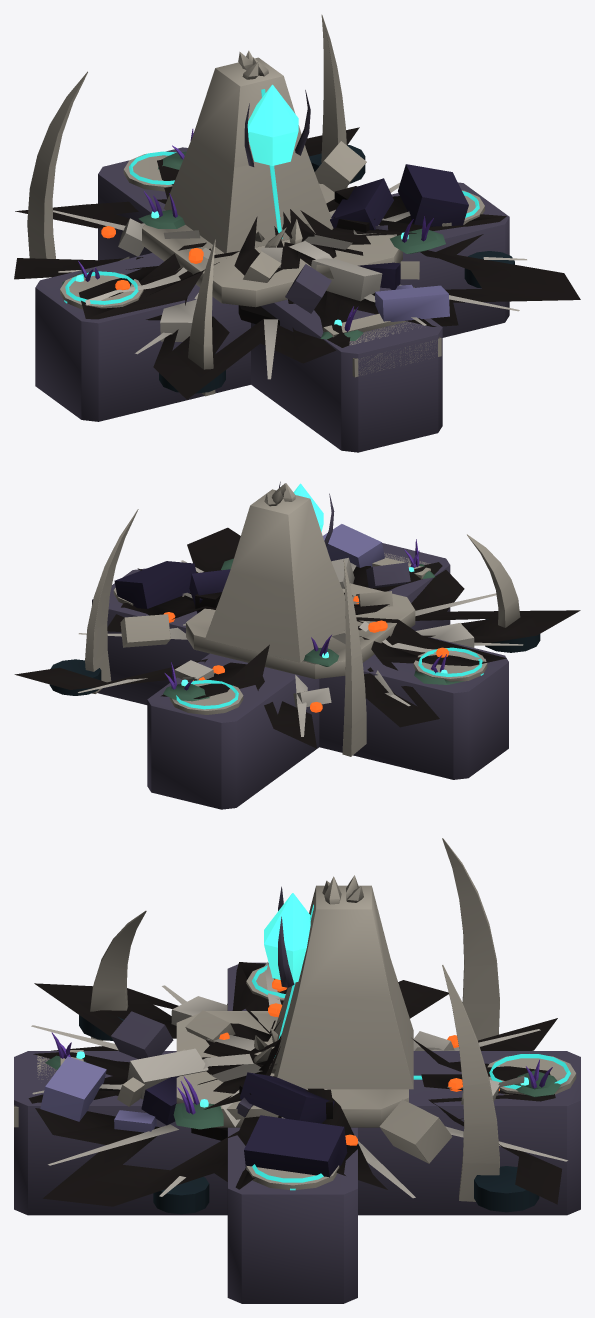
File: dark-spaceport-nacre.glb
3 renders of one model, top to bottom at view 1: azimuth 30°, elevation 25°; view 2: azimuth 150°, elevation 25°; view 3: azimuth 270°, elevation 25°, orthographic. The views are drawn at different scales.
Parts seen in each view (by area): view 1: site_dark_spaceport_nacre_body, site_dark_spaceport_nacre_ruin, site_dark_spaceport_nacre_core; view 2: site_dark_spaceport_nacre_body, site_dark_spaceport_nacre_ruin; view 3: site_dark_spaceport_nacre_body, site_dark_spaceport_nacre_ruin, site_dark_spaceport_nacre_core.
Part boxes in pixels (x1=…): site_dark_spaceport_nacre_body: x1=27, y1=14, x2=514, y2=452; site_dark_spaceport_nacre_ruin: x1=14, y1=127, x2=580, y2=399; site_dark_spaceport_nacre_core: x1=247, y1=84, x2=298, y2=165; site_dark_spaceport_nacre_body: x1=49, y1=481, x2=540, y2=809; site_dark_spaceport_nacre_ruin: x1=14, y1=524, x2=580, y2=748; site_dark_spaceport_nacre_body: x1=14, y1=838, x2=580, y2=1303; site_dark_spaceport_nacre_ruin: x1=28, y1=962, x2=567, y2=1206; site_dark_spaceport_nacre_core: x1=264, y1=893, x2=310, y2=982.
Bounding box in the file's own units: 5.9 × 3.69 × 6.1.
